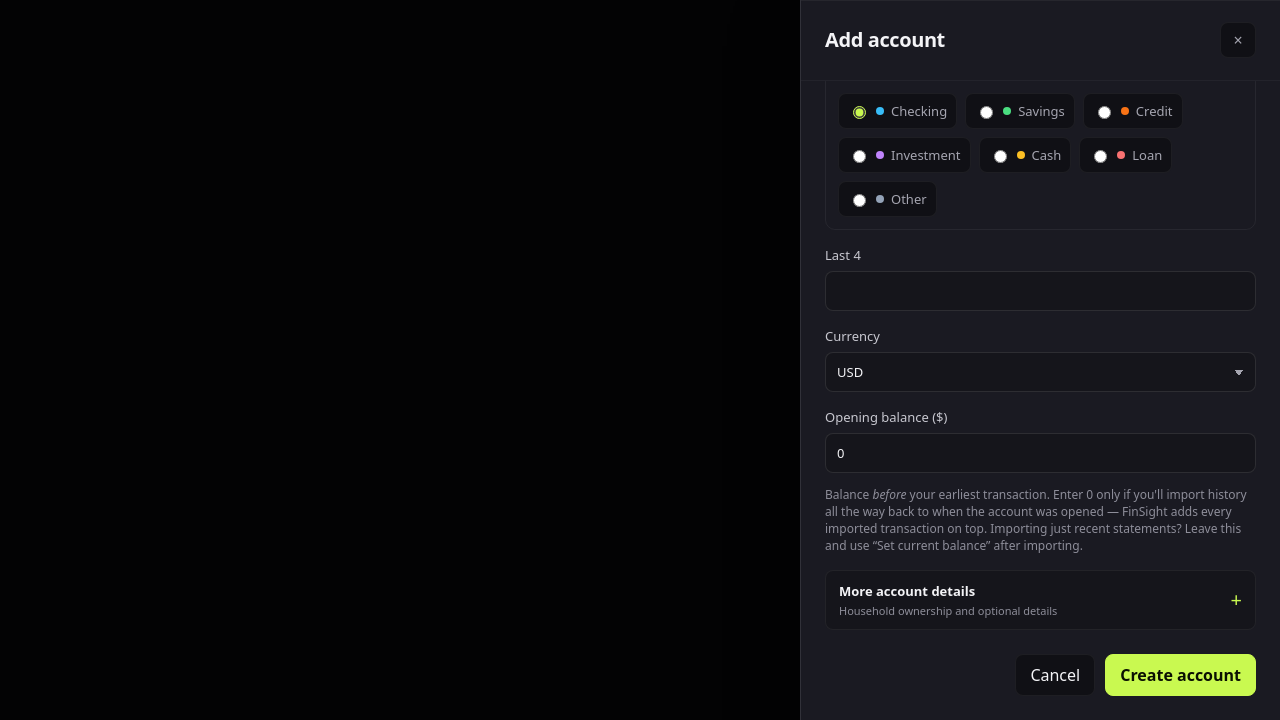
Test: AccountDrawer — create mode › uses a generic owner example
(page scrolled)
Click the button "More account details" at {"x": 1040, "y": 600}, box [825,570,1256,630]
(page scrolled)
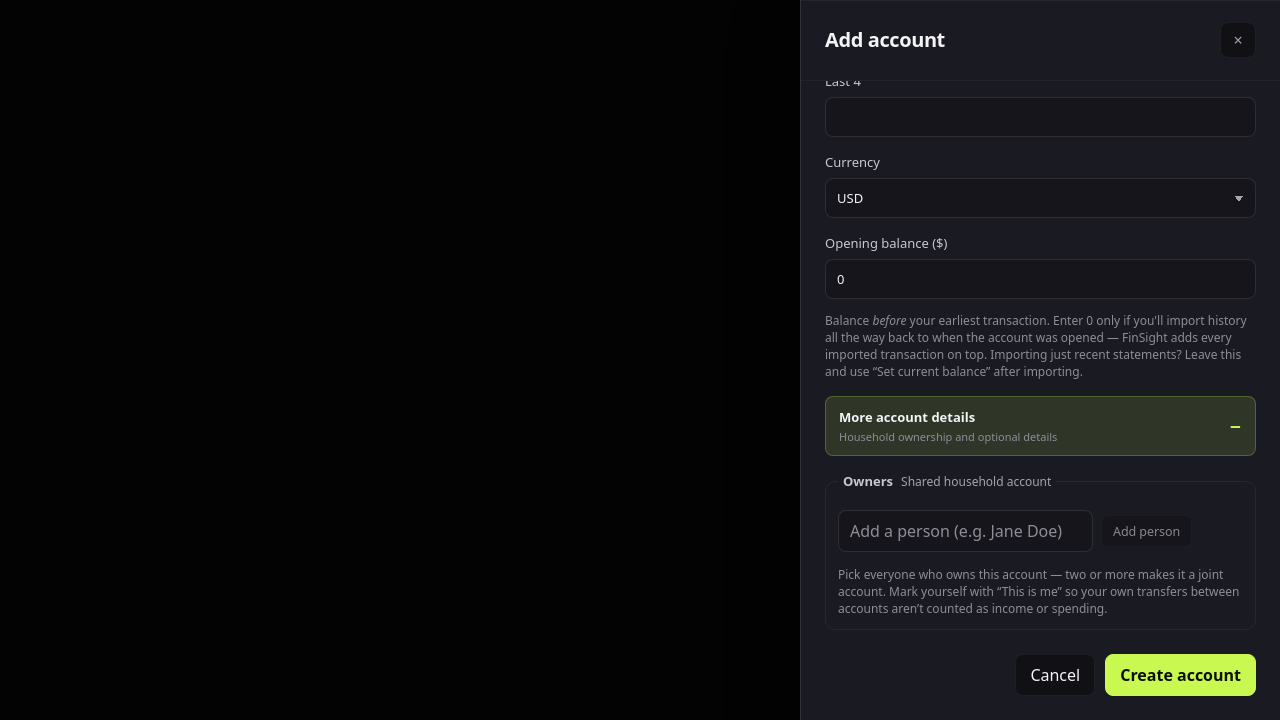
Result: the field with placeholder "Add a person (e.g. Jane Doe)" is shown at [838,510,1093,552]
